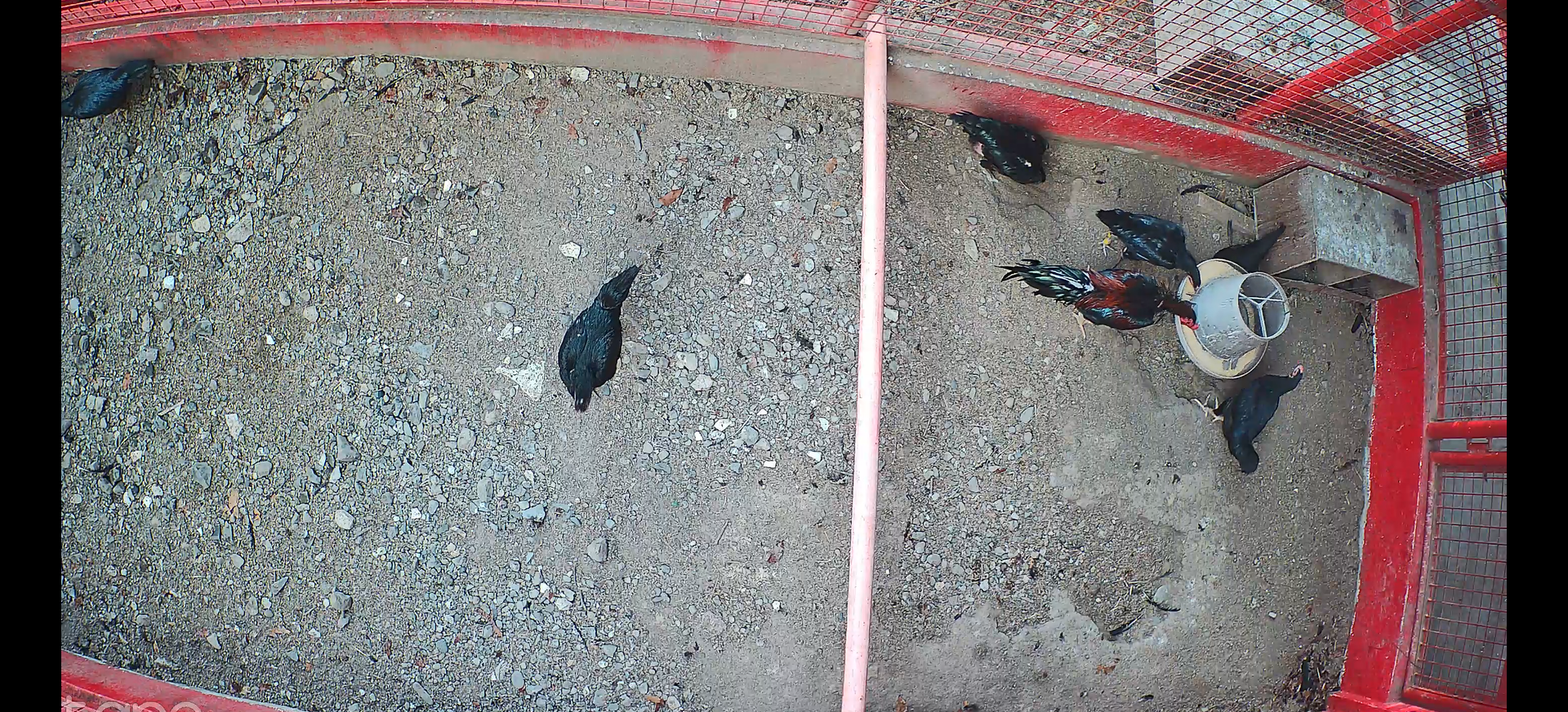Chicken: (556, 261, 642, 417), (1193, 359, 1304, 473), (1091, 207, 1199, 292), (946, 109, 1050, 188), (61, 55, 154, 130), (1210, 221, 1287, 275)
Feeder: (1174, 257, 1290, 380)
Leg_Band_Yellow: (1103, 233, 1112, 246)
